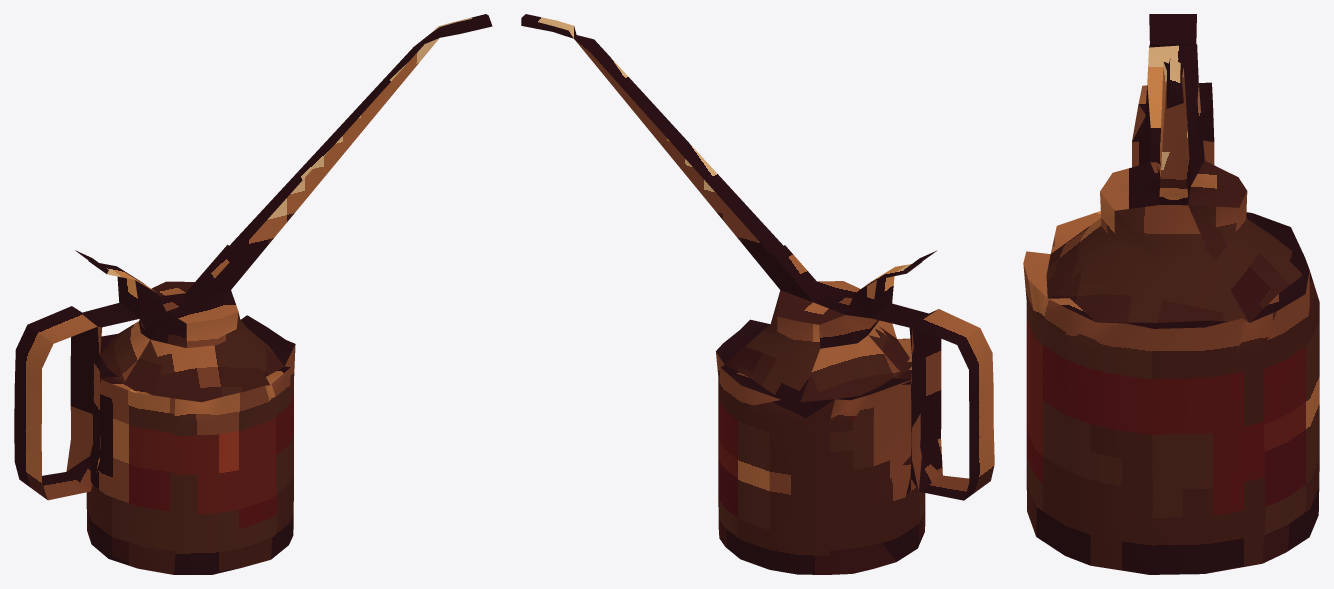
File: small_oil_can_01.glb
3 renders of one model, left to right at view 1: azimuth 30°, elevation 25°; view 2: azimuth 150°, elevation 25°; view 3: azimuth 270°, elevation 25°, orthographic. The views are drawn at different scales.
Visible parts, largest first — view 1: mesh; view 2: mesh; view 3: mesh.
Boxes of the visible parts, box(x1,y1,x2,y2) form: mesh: box(14, 14, 492, 574); mesh: box(521, 14, 994, 574); mesh: box(1023, 14, 1319, 574).
Bounding box in the file's own units: 0.2562 × 0.2368 × 0.1009.
1 material, 1 textured.
